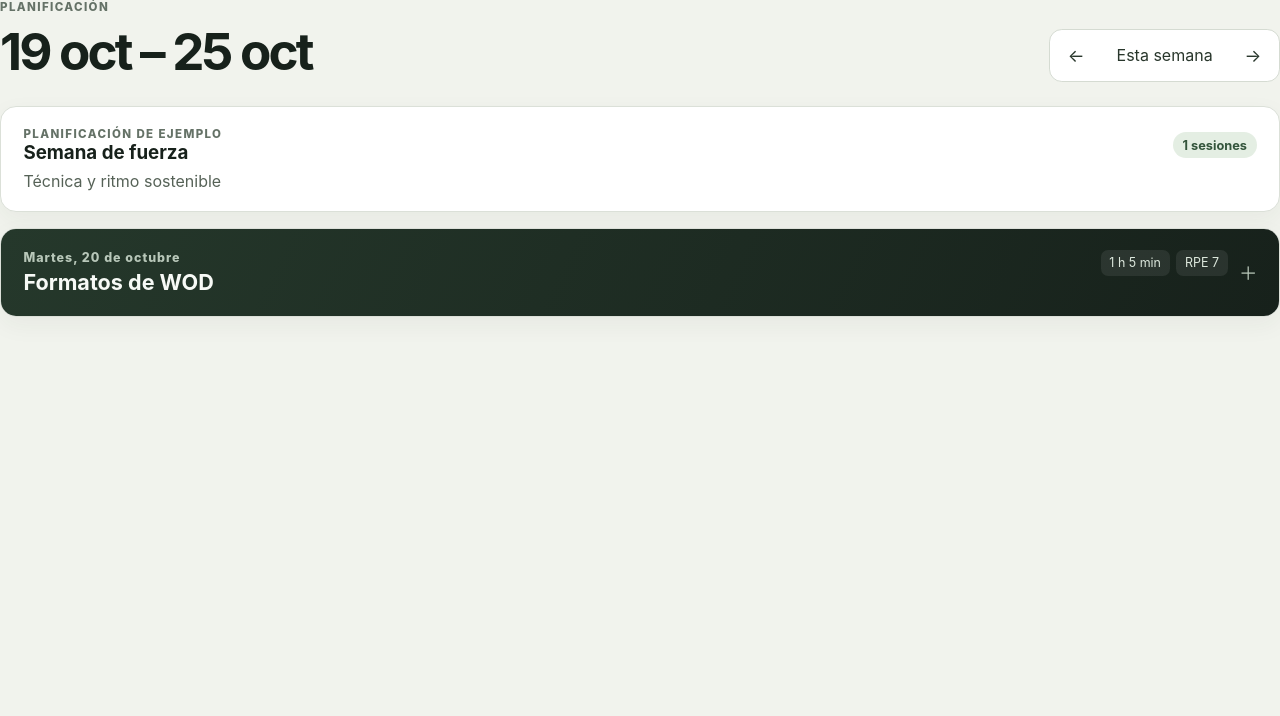
Test case: PlanningWeekScreen › renders EMOM workout format details
Step 1. Click the heading "Formatos de WOD" → (119, 282), box left=23, top=269, right=214, bottom=295
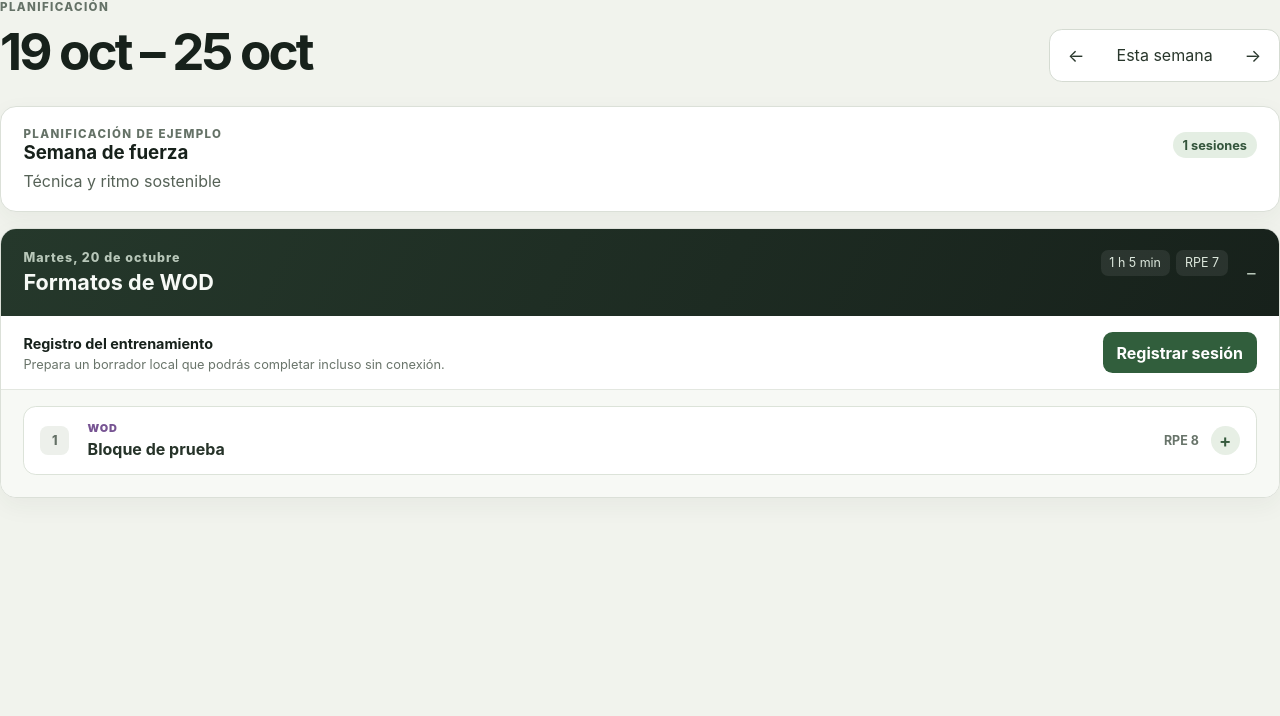
Step 2. Click the button with aria-label "WOD: Bloque de prueba" → (103, 428), box left=24, top=407, right=1256, bottom=474
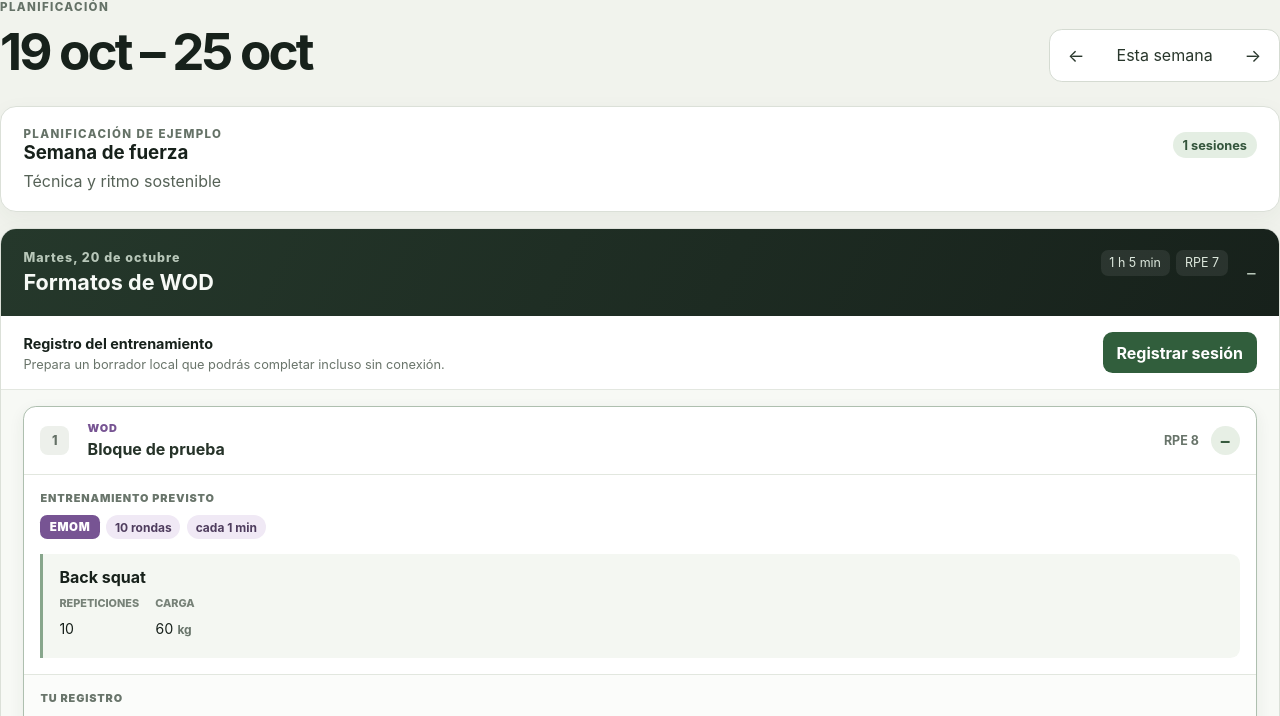
Check: the text "EMOM" is shown, box left=40, top=515, right=100, bottom=539
Check: the text "10 rondas" is shown, box left=106, top=515, right=180, bottom=539
Check: the text "cada 1 min" is shown, box left=187, top=515, right=266, bottom=539
